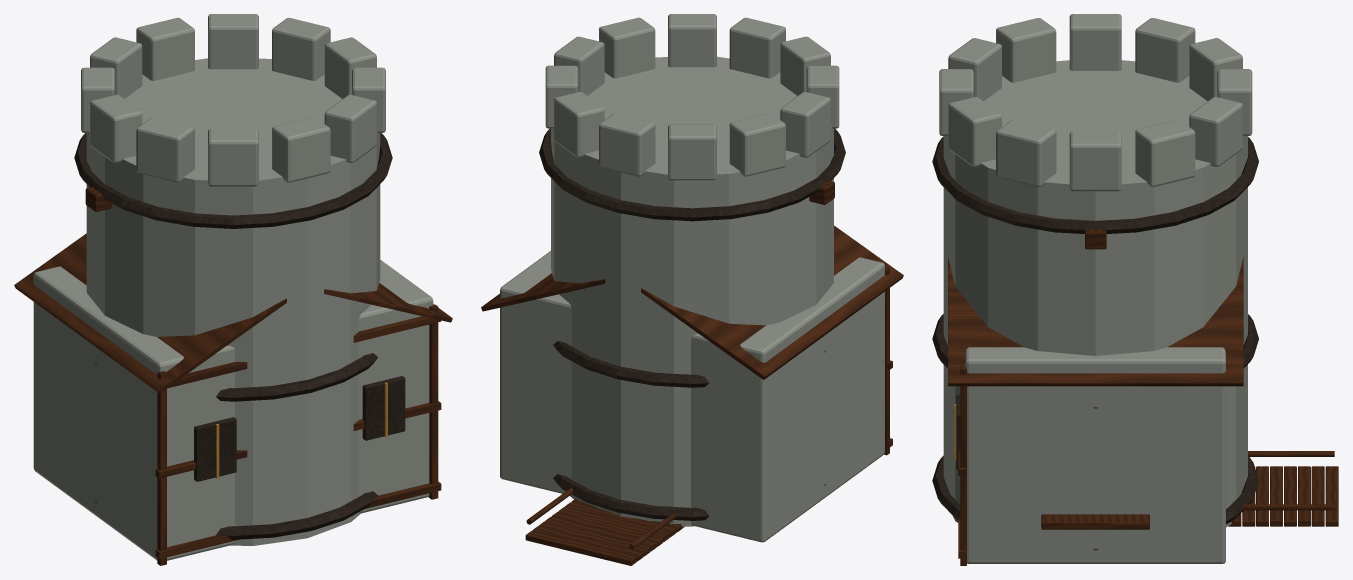
Rendered from refresh-props.glb.
The picture shows the model from 3 angles, left to right: view 1: azimuth 30°, elevation 25°; view 2: azimuth 150°, elevation 25°; view 3: azimuth 270°, elevation 25°; orthographic projection. The views are drawn at different scales.
Visible parts, largest first — view 1: Tower_Mesh, House_Mesh; view 2: Tower_Mesh, House_Mesh, Bridge_Mesh; view 3: Tower_Mesh, House_Mesh, Bridge_Mesh, Crane_Mesh.
Boxes of the visible parts, left/top/right/bottom form: Tower_Mesh: left=74, top=14, right=392, bottom=545; House_Mesh: left=14, top=233, right=452, bottom=565; Tower_Mesh: left=539, top=14, right=845, bottom=526; House_Mesh: left=481, top=225, right=903, bottom=542; Bridge_Mesh: left=525, top=488, right=684, bottom=565; Tower_Mesh: left=932, top=14, right=1258, bottom=550; House_Mesh: left=948, top=257, right=1243, bottom=565; Bridge_Mesh: left=1228, top=451, right=1338, bottom=526; Crane_Mesh: left=1041, top=229, right=1149, bottom=529.
Bounding box in the file's own units: 8.22 × 11.6 × 9.35.
Materials: 10 (5 with a texture image).
